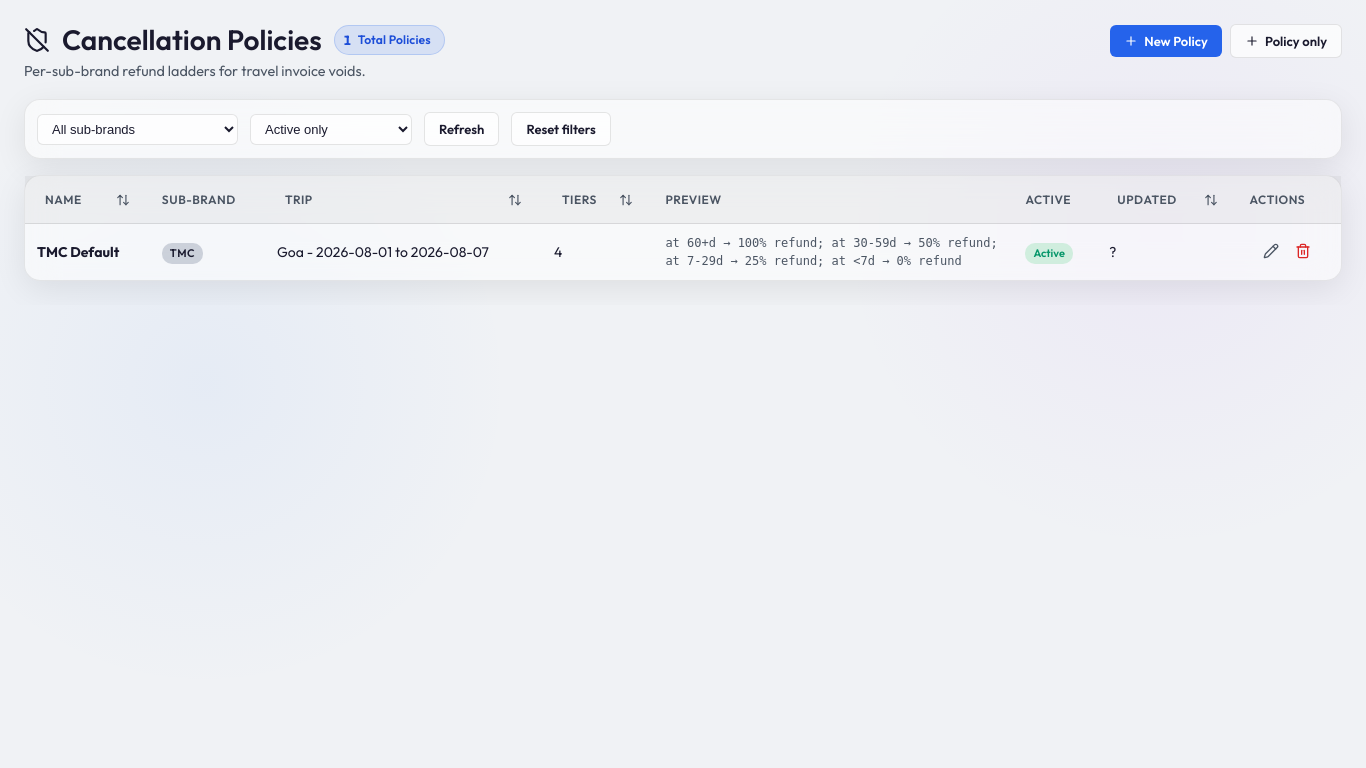
CancellationPolicies trip selector › defaults a new policy to the selected page filter
The width and height of the screenshot is (1366, 768).
expect the text "TMC Default" is shown: met, box x1=37 y1=243 x2=119 y2=261
Select "Travel Stall" in the dropdown named "Filter by sub-brand" at [138, 129], box x1=37 y1=114 x2=238 y2=145
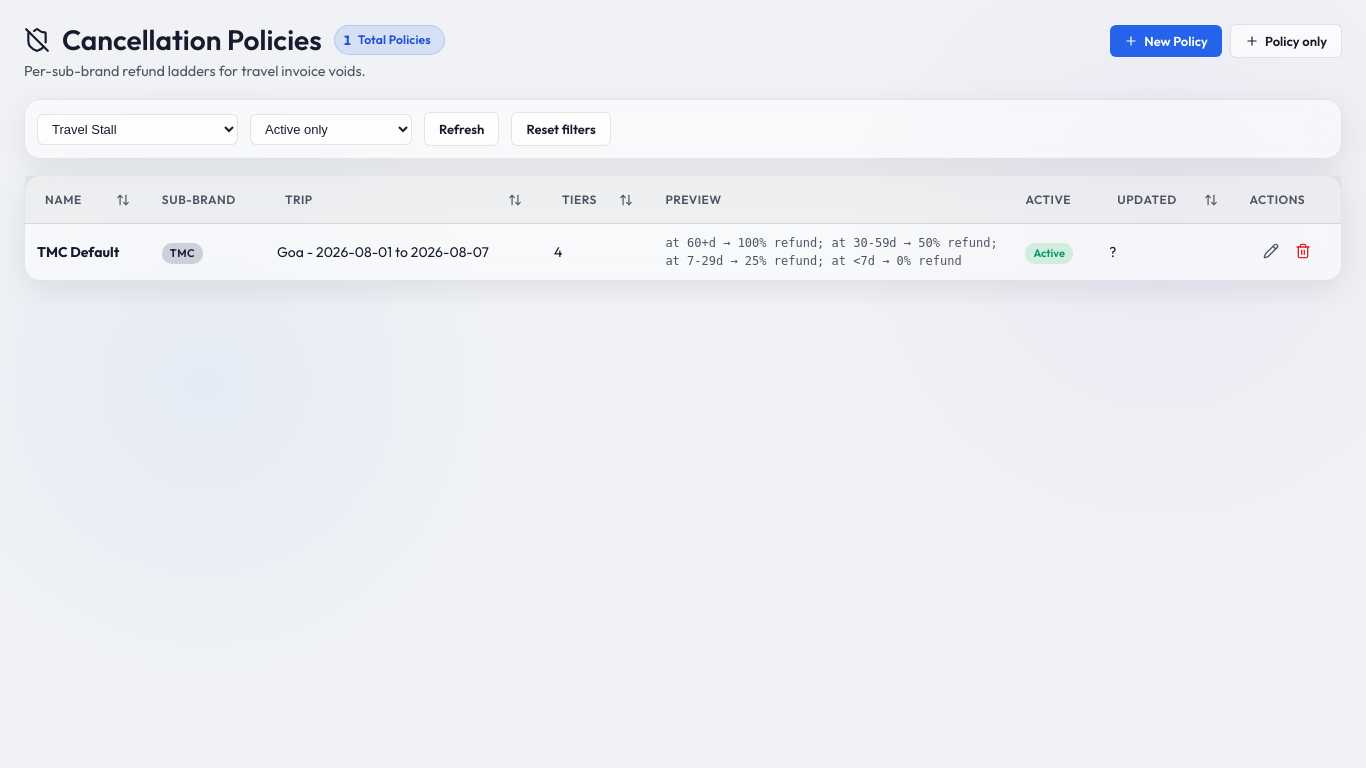
Click the button "New Policy" at [1166, 41], box x1=1110 y1=25 x2=1222 y2=57
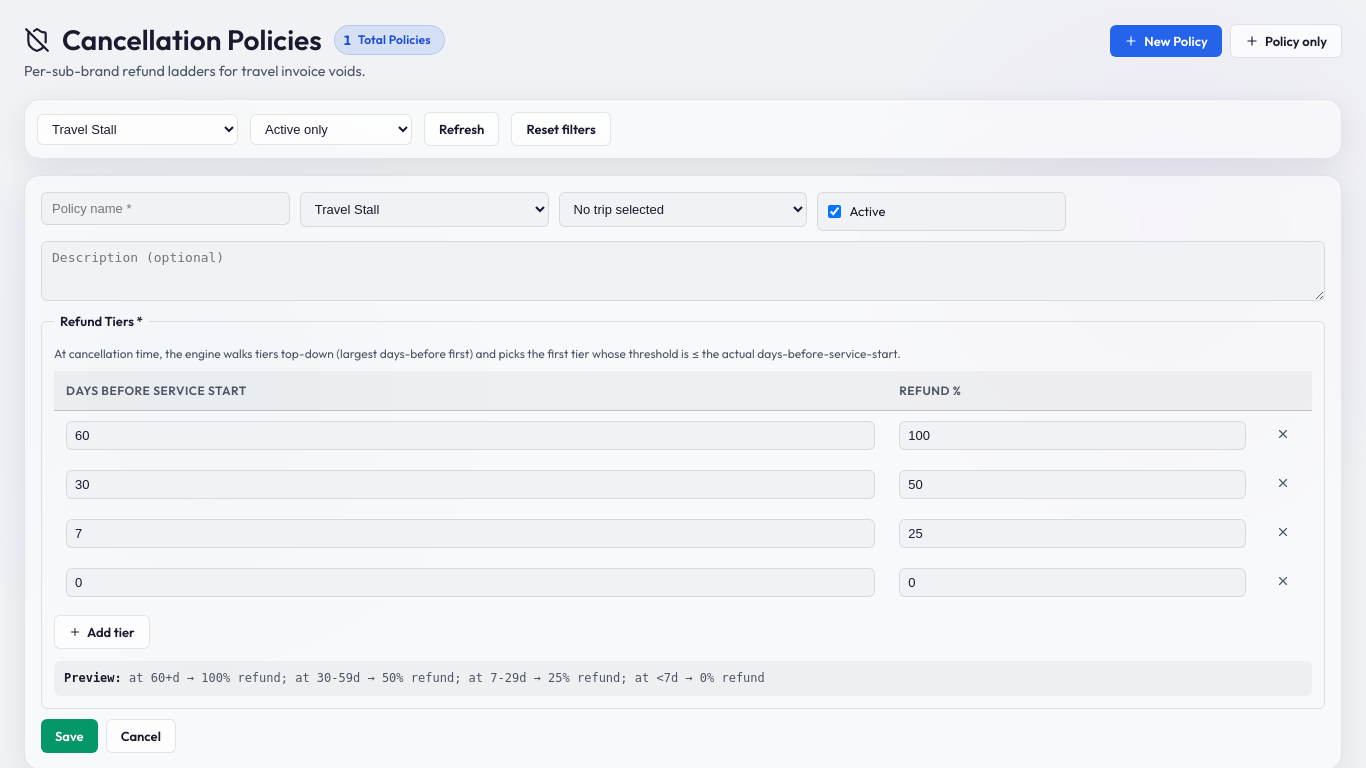
expect the dropdown named "Sub-brand" shows "Travel Stall": met, box x1=300 y1=192 x2=549 y2=227
